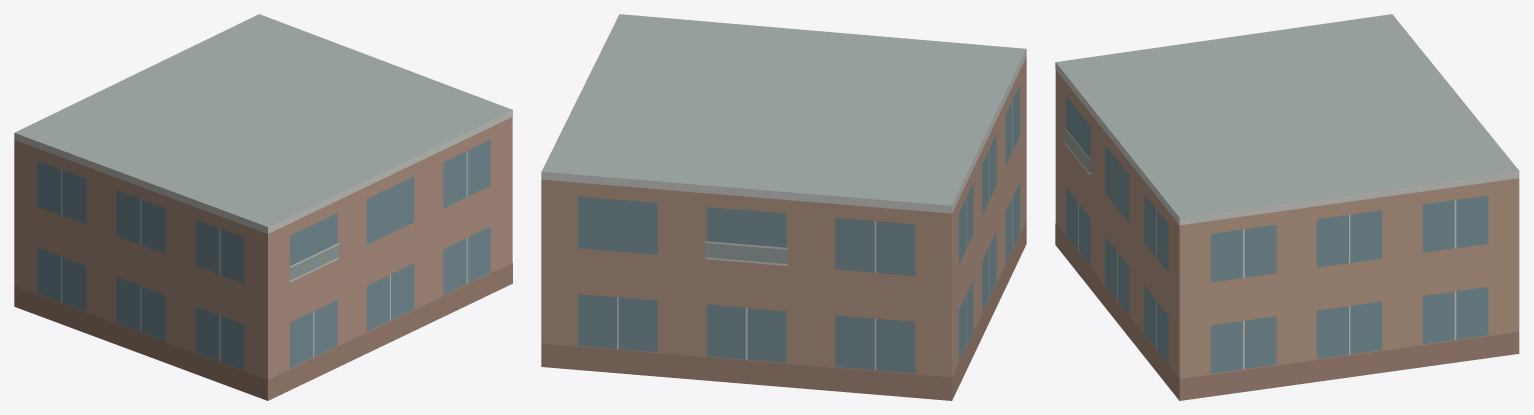
File: survey-upis-32975817.glb
The picture shows the model from 3 angles, left to right: view 1: azimuth 30°, elevation 25°; view 2: azimuth 150°, elevation 25°; view 3: azimuth 270°, elevation 25°; orthographic projection. The views are drawn at different scales.
Visible parts, largest first — view 1: survey-upis-32975817.tmp; view 2: survey-upis-32975817.tmp; view 3: survey-upis-32975817.tmp.
Part boxes in pixels (x1=…): survey-upis-32975817.tmp: x1=14, y1=14, x2=512, y2=400; survey-upis-32975817.tmp: x1=541, y1=14, x2=1026, y2=400; survey-upis-32975817.tmp: x1=1055, y1=14, x2=1519, y2=400.
Bounding box in the file's own units: 14.6 × 6.1 × 14.03.
